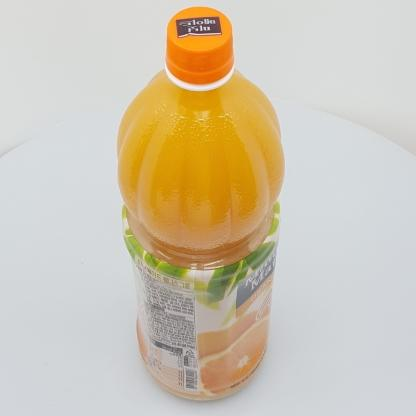-----------1-5L: (117, 6, 285, 401)
